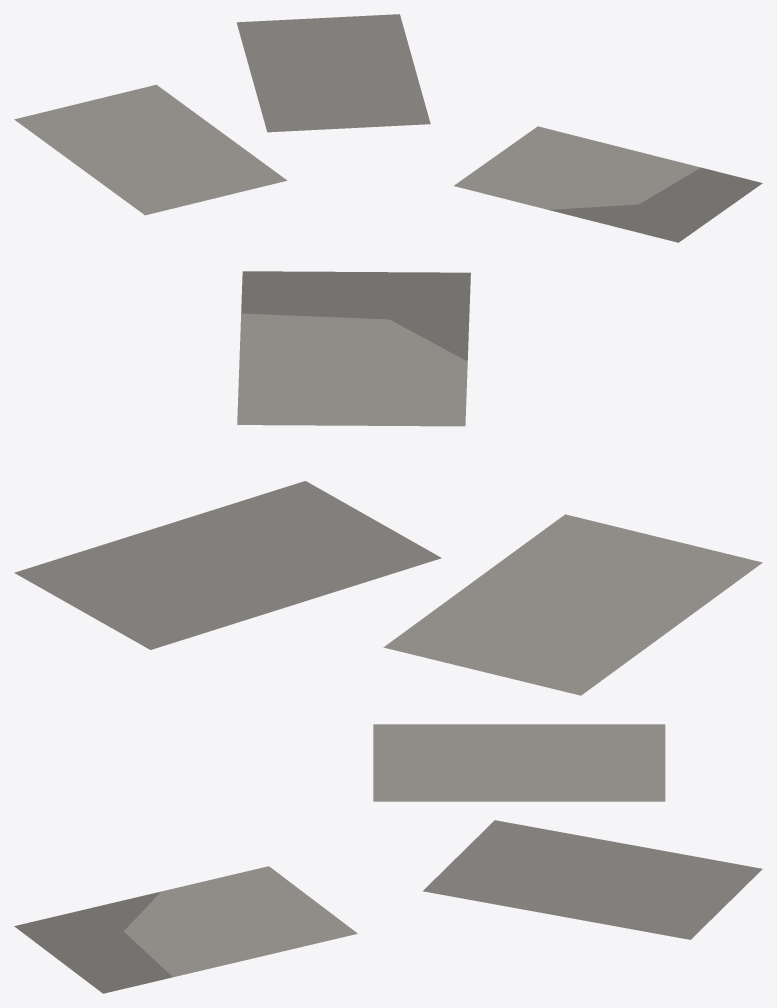
Rendered from AI_Env_Pages_02.fbx.
3 renders of one model, top to bottom at view 1: azimuth 30°, elevation 25°; view 2: azimuth 150°, elevation 25°; view 3: azimuth 270°, elevation 25°, orthographic. The views are drawn at different scales.
Visible parts, largest first — view 1: AI_Env_Pages_02; view 2: AI_Env_Pages_02; view 3: AI_Env_Pages_02.
Part boxes in pixels (box(x1,y1,x2,y2)): AI_Env_Pages_02: box(14, 14, 762, 242); AI_Env_Pages_02: box(14, 271, 762, 695); AI_Env_Pages_02: box(14, 724, 762, 993).
Bounding box in the file's own units: 1.19 × 2.57e-07 × 1.39.
